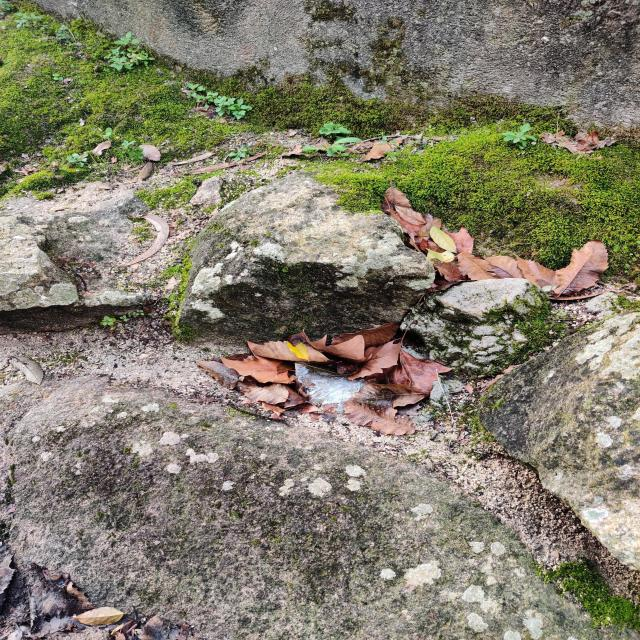litter: (294, 362, 367, 414)
